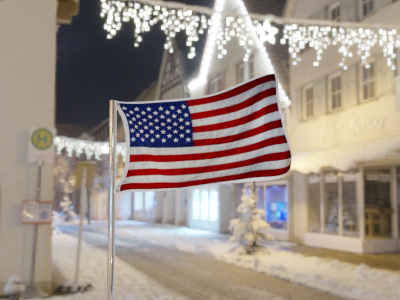America flag: (115, 73, 294, 191)
